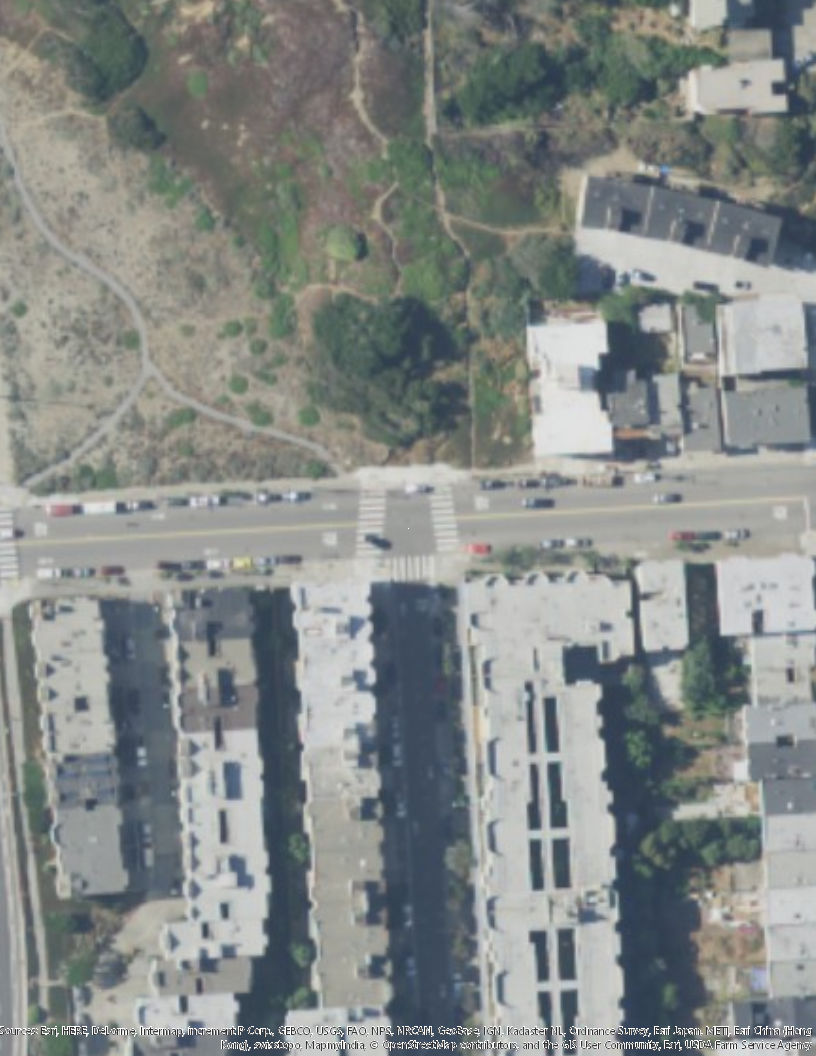zebracross: (355, 486, 387, 562), (382, 551, 445, 583), (430, 482, 457, 554), (1, 503, 19, 584)
